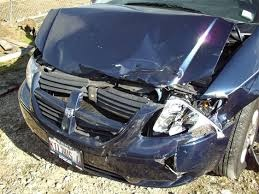Broken-glass: (157, 95, 211, 132)
Smashed: (24, 41, 246, 182)
